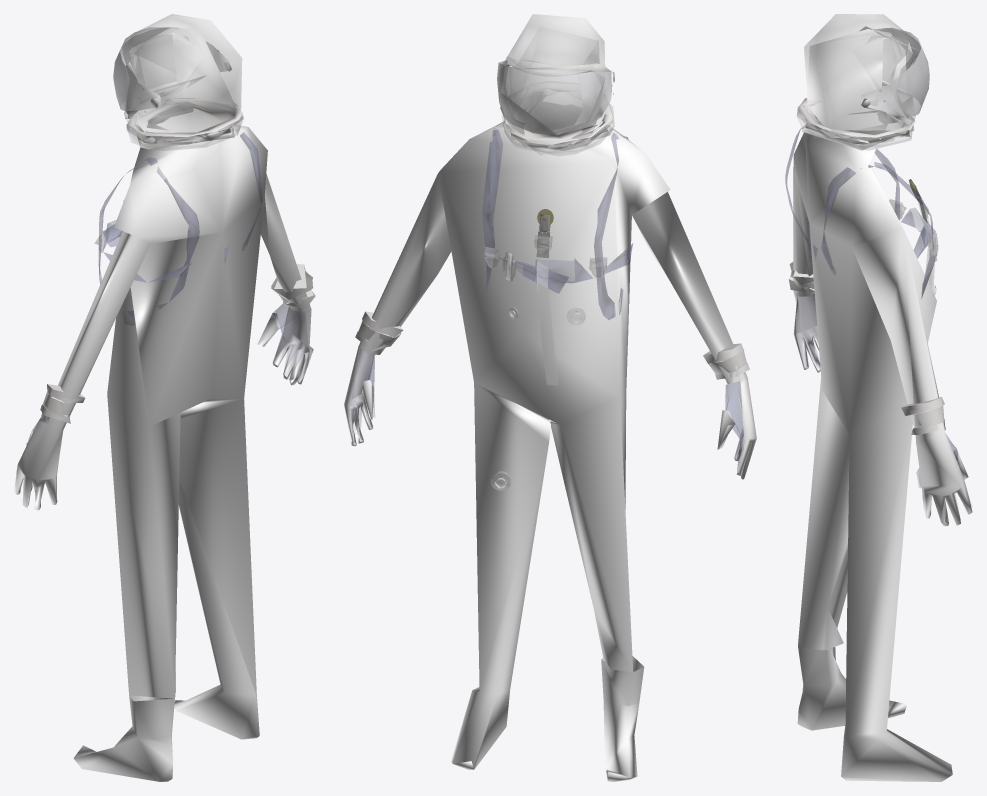
File: mercury-spacesuit.glb
3 views of the same model, side by side, from view 1: azimuth 30°, elevation 25°; view 2: azimuth 150°, elevation 25°; view 3: azimuth 270°, elevation 25° (orthographic).
Parts seen in each view (by area): view 1: Mercury Spacesuit; view 2: Mercury Spacesuit; view 3: Mercury Spacesuit.
Boxes of the visible parts, <box> form: Mercury Spacesuit: <box>14,14,315,781</box>; Mercury Spacesuit: <box>344,14,756,781</box>; Mercury Spacesuit: <box>785,14,972,781</box>.
Size of the model in its own units: 0.9851 by 2 by 0.4619.
6 materials, 6 textured.
